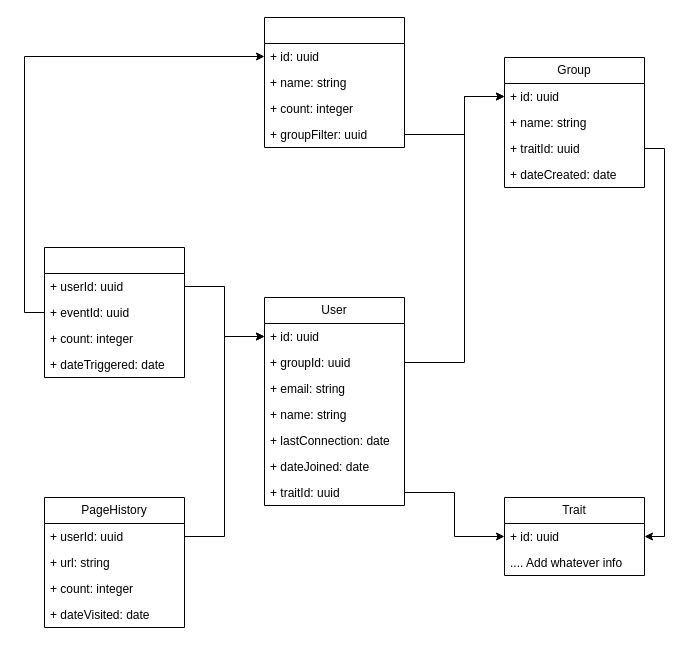
The diagram is 690 pixels wide and 648 high, and some of its shapes have lost their labels. The box of each missing label's shape, as (x1, y1, x2, y2) in pixels:
Event: (264, 16, 404, 148)
EventHistory: (44, 246, 184, 378)
